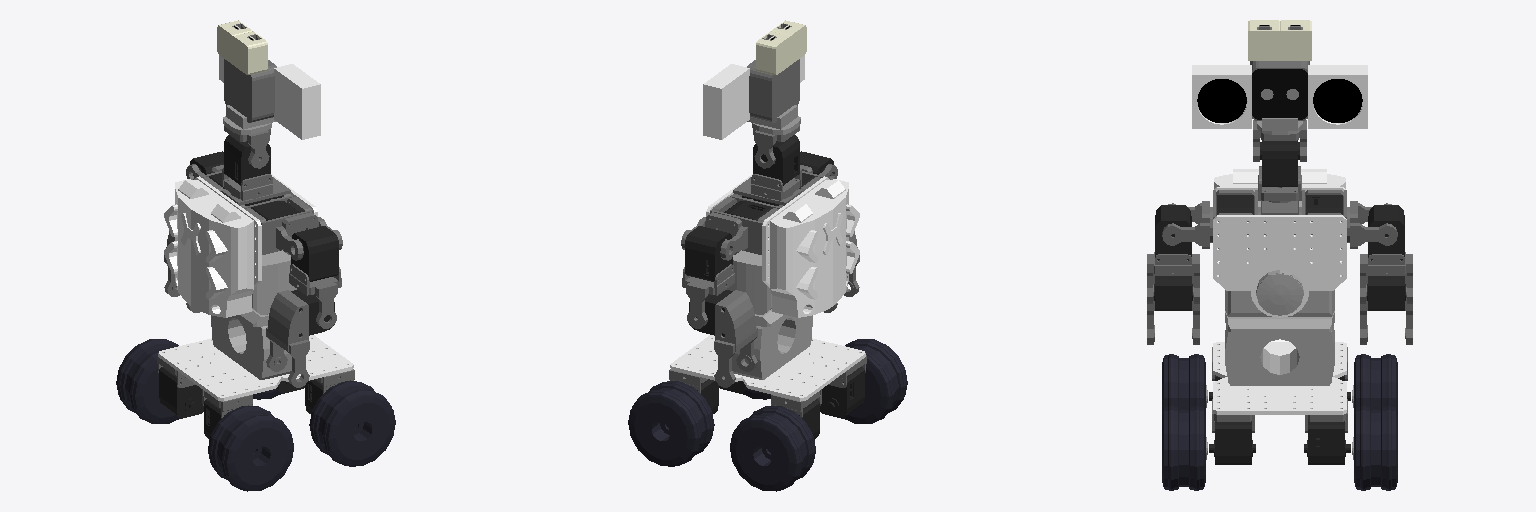
The robot description file, URDF, robot "kuromitsu":
<?xml version="1.0"?>
<robot name="kuromitsu"
       xmlns:xi="http://www.w3.org/2001/XInclude">
  <link name="bodyset94493408362304">
    <visual>
      <origin xyz="0.0435 0 0.0905" rpy="0 -0 0"/>
      <geometry>
        <mesh filename="package://kxr_models/meshes/kuromitsu/bodyset94493408362304_mesh.dae" scale="1 1 1" />
      </geometry>
    </visual>
    <collision>
      <origin xyz="0.0435 0 0.0905" rpy="0 -0 0"/>
      <geometry>
        <mesh filename="package://kxr_models/meshes/kuromitsu/bodyset94493408362304_mesh.dae" scale="1 1 1" />
      </geometry>
    </collision>
    <inertial>
      <mass value="0.609764" />
      <origin xyz="-0.003813 1.52932e-10 0.023877" rpy="0 -0 0"/>
      <inertia ixx="0.001792" ixy="-8.27808e-06" ixz="-1.66777e-06" iyy="0.002055" iyz="1.48124e-06" izz="0.003101"/>
    </inertial>
  </link>
  <link name="HEAD_LINK0">
    <visual>
      <origin xyz="-0.00725 0 0.1065" rpy="0 -0 0"/>
      <geometry>
        <mesh filename="package://kxr_models/meshes/kuromitsu/HEAD_LINK0_mesh.dae" scale="1 1 1" />
      </geometry>
    </visual>
    <collision>
      <origin xyz="-0.00725 0 0.1065" rpy="0 -0 0"/>
      <geometry>
        <mesh filename="package://kxr_models/meshes/kuromitsu/HEAD_LINK0_mesh.dae" scale="1 1 1" />
      </geometry>
    </collision>
    <inertial>
      <mass value="0.037398" />
      <origin xyz="-8.67362e-19 1.22056e-18 0.023093" rpy="0 -0 0"/>
      <inertia ixx="8.69139e-05" ixy="-8.41294e-22" ixz="8.61164e-09" iyy="9.09972e-05" iyz="-5.25778e-09" izz="2.5436e-05"/>
    </inertial>
  </link>
  <link name="HEAD_LINK1">
    <visual>
      <origin xyz="0 0 0.036" rpy="0 -0 0"/>
      <geometry>
        <mesh filename="package://kxr_models/meshes/kuromitsu/HEAD_LINK1_mesh.dae" scale="1 1 1" />
      </geometry>
    </visual>
    <collision>
      <origin xyz="0 0 0.036" rpy="0 -0 0"/>
      <geometry>
        <mesh filename="package://kxr_models/meshes/kuromitsu/HEAD_LINK1_mesh.dae" scale="1 1 1" />
      </geometry>
    </collision>
    <inertial>
      <mass value="0.160516" />
      <origin xyz="0.001469 8.14497e-18 0.194059" rpy="0 -0 0"/>
      <inertia ixx="0.001107" ixy="-1.79922e-07" ixz="-6.65543e-08" iyy="0.001036" iyz="-1.79583e-08" izz="0.000187"/>
    </inertial>
  </link>
  <link name="LARM_LINK0">
    <visual>
      <origin xyz="0.00725 0.0465 0.0915" rpy="0 -0 0"/>
      <geometry>
        <mesh filename="package://kxr_models/meshes/kuromitsu/LARM_LINK0_mesh.dae" scale="1 1 1" />
      </geometry>
    </visual>
    <collision>
      <origin xyz="0.00725 0.0465 0.0915" rpy="0 -0 0"/>
      <geometry>
        <mesh filename="package://kxr_models/meshes/kuromitsu/LARM_LINK0_mesh.dae" scale="1 1 1" />
      </geometry>
    </collision>
    <inertial>
      <mass value="0.011355" />
      <origin xyz="1.73472e-18 0 0.012267" rpy="0 -0 0"/>
      <inertia ixx="5.30156e-05" ixy="-1.82679e-09" ixz="1.62901e-09" iyy="3.96605e-05" iyz="3.6276e-09" izz="1.8654e-05"/>
    </inertial>
  </link>
  <link name="LARM_LINK1">
    <visual>
      <origin xyz="0 0.029 0" rpy="0 -0 0"/>
      <geometry>
        <mesh filename="package://kxr_models/meshes/kuromitsu/LARM_LINK1_mesh.dae" scale="1 1 1" />
      </geometry>
    </visual>
    <collision>
      <origin xyz="0 0.029 0" rpy="0 -0 0"/>
      <geometry>
        <mesh filename="package://kxr_models/meshes/kuromitsu/LARM_LINK1_mesh.dae" scale="1 1 1" />
      </geometry>
    </collision>
    <inertial>
      <mass value="0.042494" />
      <origin xyz="8.67362e-19 0 -0.016632" rpy="0 -0 0"/>
      <inertia ixx="7.93507e-05" ixy="-1.82679e-09" ixz="1.02406e-08" iyy="4.90024e-05" iyz="-1.63018e-09" izz="6.06587e-05"/>
    </inertial>
  </link>
  <link name="LARM_LINK2">
    <visual>
      <origin xyz="0 0 -0.053" rpy="0 -0 0"/>
      <geometry>
        <mesh filename="package://kxr_models/meshes/kuromitsu/LARM_LINK2_mesh.dae" scale="1 1 1" />
      </geometry>
    </visual>
    <collision>
      <origin xyz="0 0 -0.053" rpy="0 -0 0"/>
      <geometry>
        <mesh filename="package://kxr_models/meshes/kuromitsu/LARM_LINK2_mesh.dae" scale="1 1 1" />
      </geometry>
    </collision>
    <inertial>
      <mass value="0.05298" />
      <origin xyz="0.014792 0 -0.005477" rpy="0 -0 0"/>
      <inertia ixx="6.38743e-05" ixy="5.66051e-08" ixz="1.81382e-08" iyy="3.04427e-05" iyz="-6.74218e-07" izz="6.37923e-05"/>
    </inertial>
  </link>
  <link name="LLEG_LINK0">
    <visual>
      <origin xyz="0.0435 0.048 -0.0665" rpy="0 -0 0"/>
      <geometry>
        <mesh filename="package://kxr_models/meshes/kuromitsu/LLEG_LINK0_mesh.dae" scale="1 1 1" />
      </geometry>
    </visual>
    <collision>
      <origin xyz="0.0435 0.048 -0.0665" rpy="0 -0 0"/>
      <geometry>
        <mesh filename="package://kxr_models/meshes/kuromitsu/LLEG_LINK0_mesh.dae" scale="1 1 1" />
      </geometry>
    </collision>
    <inertial>
      <mass value="0.095024" />
      <origin xyz="-6.93889e-18 0.016915 0" rpy="0 -0 0"/>
      <inertia ixx="0.000174" ixy="6.12903e-22" ixz="1.59072e-20" iyy="0.000171" iyz="-1.9762e-20" izz="0.00026"/>
    </inertial>
  </link>
  <link name="LLEG_LINK1">
    <visual>
      <origin xyz="-0.0435 0.048 -0.0665" rpy="0 -0 0"/>
      <geometry>
        <mesh filename="package://kxr_models/meshes/kuromitsu/LLEG_LINK1_mesh.dae" scale="1 1 1" />
      </geometry>
    </visual>
    <collision>
      <origin xyz="-0.0435 0.048 -0.0665" rpy="0 -0 0"/>
      <geometry>
        <mesh filename="package://kxr_models/meshes/kuromitsu/LLEG_LINK1_mesh.dae" scale="1 1 1" />
      </geometry>
    </collision>
    <inertial>
      <mass value="0.095024" />
      <origin xyz="-6.93889e-18 0.016915 0" rpy="0 -0 0"/>
      <inertia ixx="0.000174" ixy="6.12629e-22" ixz="1.58982e-20" iyy="0.000171" iyz="1.9762e-20" izz="0.00026"/>
    </inertial>
  </link>
  <link name="RARM_LINK0">
    <visual>
      <origin xyz="0.00725 -0.0465 0.0915" rpy="0 -0 0"/>
      <geometry>
        <mesh filename="package://kxr_models/meshes/kuromitsu/RARM_LINK0_mesh.dae" scale="1 1 1" />
      </geometry>
    </visual>
    <collision>
      <origin xyz="0.00725 -0.0465 0.0915" rpy="0 -0 0"/>
      <geometry>
        <mesh filename="package://kxr_models/meshes/kuromitsu/RARM_LINK0_mesh.dae" scale="1 1 1" />
      </geometry>
    </collision>
    <inertial>
      <mass value="0.011355" />
      <origin xyz="1.73472e-18 0 0.012267" rpy="0 -0 0"/>
      <inertia ixx="5.30156e-05" ixy="-1.82679e-09" ixz="1.62901e-09" iyy="3.96605e-05" iyz="3.6276e-09" izz="1.8654e-05"/>
    </inertial>
  </link>
  <link name="RARM_LINK1">
    <visual>
      <origin xyz="0 -0.029 0" rpy="0 -0 0"/>
      <geometry>
        <mesh filename="package://kxr_models/meshes/kuromitsu/RARM_LINK1_mesh.dae" scale="1 1 1" />
      </geometry>
    </visual>
    <collision>
      <origin xyz="0 -0.029 0" rpy="0 -0 0"/>
      <geometry>
        <mesh filename="package://kxr_models/meshes/kuromitsu/RARM_LINK1_mesh.dae" scale="1 1 1" />
      </geometry>
    </collision>
    <inertial>
      <mass value="0.042494" />
      <origin xyz="8.67362e-19 0 -0.016632" rpy="0 -0 0"/>
      <inertia ixx="7.93507e-05" ixy="-1.82679e-09" ixz="1.02406e-08" iyy="4.90024e-05" iyz="-1.63018e-09" izz="6.06587e-05"/>
    </inertial>
  </link>
  <link name="RARM_LINK2">
    <visual>
      <origin xyz="0 0 -0.053" rpy="0 -0 0"/>
      <geometry>
        <mesh filename="package://kxr_models/meshes/kuromitsu/RARM_LINK2_mesh.dae" scale="1 1 1" />
      </geometry>
    </visual>
    <collision>
      <origin xyz="0 0 -0.053" rpy="0 -0 0"/>
      <geometry>
        <mesh filename="package://kxr_models/meshes/kuromitsu/RARM_LINK2_mesh.dae" scale="1 1 1" />
      </geometry>
    </collision>
    <inertial>
      <mass value="0.05298" />
      <origin xyz="0.014792 0 -0.005477" rpy="0 -0 0"/>
      <inertia ixx="6.38743e-05" ixy="5.66051e-08" ixz="1.81382e-08" iyy="3.04427e-05" iyz="-6.74218e-07" izz="6.37923e-05"/>
    </inertial>
  </link>
  <link name="RLEG_LINK0">
    <visual>
      <origin xyz="0.0435 -0.048 -0.0665" rpy="0 -0 0"/>
      <geometry>
        <mesh filename="package://kxr_models/meshes/kuromitsu/RLEG_LINK0_mesh.dae" scale="1 1 1" />
      </geometry>
    </visual>
    <collision>
      <origin xyz="0.0435 -0.048 -0.0665" rpy="0 -0 0"/>
      <geometry>
        <mesh filename="package://kxr_models/meshes/kuromitsu/RLEG_LINK0_mesh.dae" scale="1 1 1" />
      </geometry>
    </collision>
    <inertial>
      <mass value="0.095024" />
      <origin xyz="-6.93889e-18 0.016915 0" rpy="0 -0 0"/>
      <inertia ixx="0.000174" ixy="6.12569e-22" ixz="1.59007e-20" iyy="0.000171" iyz="3.95239e-20" izz="0.00026"/>
    </inertial>
  </link>
  <link name="RLEG_LINK1">
    <visual>
      <origin xyz="-0.0435 -0.048 -0.0665" rpy="0 -0 0"/>
      <geometry>
        <mesh filename="package://kxr_models/meshes/kuromitsu/RLEG_LINK1_mesh.dae" scale="1 1 1" />
      </geometry>
    </visual>
    <collision>
      <origin xyz="-0.0435 -0.048 -0.0665" rpy="0 -0 0"/>
      <geometry>
        <mesh filename="package://kxr_models/meshes/kuromitsu/RLEG_LINK1_mesh.dae" scale="1 1 1" />
      </geometry>
    </collision>
    <inertial>
      <mass value="0.095024" />
      <origin xyz="-6.93889e-18 0.016915 0" rpy="0 -0 0"/>
      <inertia ixx="0.000174" ixy="6.12283e-22" ixz="1.58939e-20" iyy="0.000171" iyz="3.95239e-20" izz="0.00026"/>
    </inertial>
  </link>
  <joint name="HEAD_JOINT0" type="revolute">
    <parent link="bodyset94493408362304"/>
    <child  link="HEAD_LINK0"/>
    <origin xyz="-0.00725 0 0.1065" rpy="0 -0 0 "/>
    <axis   xyz="0 0 1"/>
    <limit lower="-2.96706" upper="2.96706" effort="0.656248" velocity="7.47998" />
    <dynamics damping="0.2" friction="0" />
  </joint>
  <joint name="HEAD_JOINT1" type="revolute">
    <parent link="HEAD_LINK0"/>
    <child  link="HEAD_LINK1"/>
    <origin xyz="0 0 0.036" rpy="0 -0 0 "/>
    <axis   xyz="0 1 0"/>
    <limit lower="-2.0944" upper="2.0944" effort="0.656248" velocity="7.47998" />
    <dynamics damping="0.2" friction="0" />
  </joint>
  <joint name="LARM_JOINT0" type="revolute">
    <parent link="bodyset94493408362304"/>
    <child  link="LARM_LINK0"/>
    <origin xyz="0.00725 0.0465 0.0915" rpy="0 -0 0 "/>
    <axis   xyz="0 1 0"/>
    <limit lower="-3.14159" upper="3.14159" effort="0.656248" velocity="7.47998" />
    <dynamics damping="0.2" friction="0" />
  </joint>
  <joint name="LARM_JOINT1" type="revolute">
    <parent link="LARM_LINK0"/>
    <child  link="LARM_LINK1"/>
    <origin xyz="0 0.029 0" rpy="0 -0 0 "/>
    <axis   xyz="1 0 0"/>
    <limit lower="-0.523599" upper="3.22886" effort="0.656248" velocity="7.47998" />
    <dynamics damping="0.2" friction="0" />
  </joint>
  <joint name="LARM_JOINT2" type="revolute">
    <parent link="LARM_LINK1"/>
    <child  link="LARM_LINK2"/>
    <origin xyz="0 0 -0.053" rpy="0 -0 0 "/>
    <axis   xyz="0 1 0"/>
    <limit lower="-2.96706" upper="2.96706" effort="0.656248" velocity="7.47998" />
    <dynamics damping="0.2" friction="0" />
  </joint>
  <joint name="LLEG_JOINT0" type="revolute">
    <parent link="bodyset94493408362304"/>
    <child  link="LLEG_LINK0"/>
    <origin xyz="0.0435 0.048 -0.0665" rpy="0 -0 0 "/>
    <axis   xyz="0 1 0"/>
    <limit lower="-1745.33" upper="1745.33" effort="0.656248" velocity="7.47998" />
    <dynamics damping="0.2" friction="0" />
  </joint>
  <joint name="LLEG_JOINT1" type="revolute">
    <parent link="bodyset94493408362304"/>
    <child  link="LLEG_LINK1"/>
    <origin xyz="-0.0435 0.048 -0.0665" rpy="0 -0 0 "/>
    <axis   xyz="0 1 0"/>
    <limit lower="-1745.33" upper="1745.33" effort="0.656248" velocity="7.47998" />
    <dynamics damping="0.2" friction="0" />
  </joint>
  <joint name="RARM_JOINT0" type="revolute">
    <parent link="bodyset94493408362304"/>
    <child  link="RARM_LINK0"/>
    <origin xyz="0.00725 -0.0465 0.0915" rpy="0 -0 0 "/>
    <axis   xyz="0 1 0"/>
    <limit lower="-3.14159" upper="3.14159" effort="0.656248" velocity="7.47998" />
    <dynamics damping="0.2" friction="0" />
  </joint>
  <joint name="RARM_JOINT1" type="revolute">
    <parent link="RARM_LINK0"/>
    <child  link="RARM_LINK1"/>
    <origin xyz="0 -0.029 0" rpy="0 -0 0 "/>
    <axis   xyz="1 0 0"/>
    <limit lower="-3.22886" upper="0.523599" effort="0.656248" velocity="7.47998" />
    <dynamics damping="0.2" friction="0" />
  </joint>
  <joint name="RARM_JOINT2" type="revolute">
    <parent link="RARM_LINK1"/>
    <child  link="RARM_LINK2"/>
    <origin xyz="0 0 -0.053" rpy="0 -0 0 "/>
    <axis   xyz="0 1 0"/>
    <limit lower="-2.96706" upper="2.96706" effort="0.656248" velocity="7.47998" />
    <dynamics damping="0.2" friction="0" />
  </joint>
  <joint name="RLEG_JOINT0" type="revolute">
    <parent link="bodyset94493408362304"/>
    <child  link="RLEG_LINK0"/>
    <origin xyz="0.0435 -0.048 -0.0665" rpy="0 -0 0 "/>
    <axis   xyz="0 1 0"/>
    <limit lower="-1745.33" upper="1745.33" effort="0.656248" velocity="7.47998" />
    <dynamics damping="0.2" friction="0" />
  </joint>
  <joint name="RLEG_JOINT1" type="revolute">
    <parent link="bodyset94493408362304"/>
    <child  link="RLEG_LINK1"/>
    <origin xyz="-0.0435 -0.048 -0.0665" rpy="0 -0 0 "/>
    <axis   xyz="0 1 0"/>
    <limit lower="-1745.33" upper="1745.33" effort="0.656248" velocity="7.47998" />
    <dynamics damping="0.2" friction="0" />
  </joint>
</robot>

--- What the picture shows (computed from the rendered views, not written in the file) ---
Views: 3 orthographic renders of the robot side by side, from view 1: azimuth 30°, elevation 25°; view 2: azimuth 150°, elevation 25°; view 3: azimuth 270°, elevation 25°.
Model kuromitsu with 13 links and 12 joints (12 revolute), rooted at bodyset94493408362304, posed all joints at 0.
Links seen in each view (by area): view 1: bodyset94493408362304, HEAD_LINK1, RLEG_LINK1, RLEG_LINK0, RARM_LINK2, RARM_LINK1, LLEG_LINK1, HEAD_LINK0, RARM_LINK0; view 2: bodyset94493408362304, HEAD_LINK1, LLEG_LINK1, LLEG_LINK0, LARM_LINK2, LARM_LINK1, RLEG_LINK1, HEAD_LINK0, LARM_LINK0; view 3: bodyset94493408362304, HEAD_LINK1, LLEG_LINK0, RLEG_LINK0, LARM_LINK1, RARM_LINK1, HEAD_LINK0, LLEG_LINK1, RLEG_LINK1, LARM_LINK2, RARM_LINK2, LARM_LINK0 (+1 smaller).
Link boxes in pixels (x1,y1,x2,y2): bodyset94493408362304: [157, 171, 354, 439]; HEAD_LINK1: [217, 20, 320, 168]; RLEG_LINK1: [208, 406, 293, 491]; RLEG_LINK0: [309, 381, 395, 466]; RARM_LINK2: [266, 290, 334, 387]; RARM_LINK1: [289, 226, 341, 328]; LLEG_LINK1: [116, 339, 180, 423]; HEAD_LINK0: [222, 135, 272, 200]; RARM_LINK0: [276, 212, 342, 260]; bodyset94493408362304: [669, 171, 866, 439]; HEAD_LINK1: [703, 20, 806, 168]; LLEG_LINK1: [730, 406, 815, 491]; LLEG_LINK0: [628, 381, 714, 466]; LARM_LINK2: [689, 290, 757, 387]; LARM_LINK1: [682, 226, 734, 328]; RLEG_LINK1: [843, 339, 907, 423]; HEAD_LINK0: [751, 135, 801, 200]; LARM_LINK0: [681, 212, 747, 260]; bodyset94493408362304: [1209, 169, 1350, 464]; HEAD_LINK1: [1192, 20, 1367, 161]; LLEG_LINK0: [1352, 406, 1397, 490]; RLEG_LINK0: [1162, 406, 1207, 490]; LARM_LINK1: [1360, 205, 1412, 303]; RARM_LINK1: [1147, 205, 1199, 303]; HEAD_LINK0: [1258, 140, 1301, 200]; LLEG_LINK1: [1352, 354, 1397, 413]; RLEG_LINK1: [1162, 354, 1207, 413]; LARM_LINK2: [1360, 272, 1412, 344]; RARM_LINK2: [1147, 272, 1199, 344]; LARM_LINK0: [1350, 201, 1397, 248].
Bounding box of the posed robot: 0.148 × 0.189 × 0.3356 m (x, y, z).
Meshes: 13 distinct files referenced, 13 mesh visuals loaded (13 Collada DAE).
